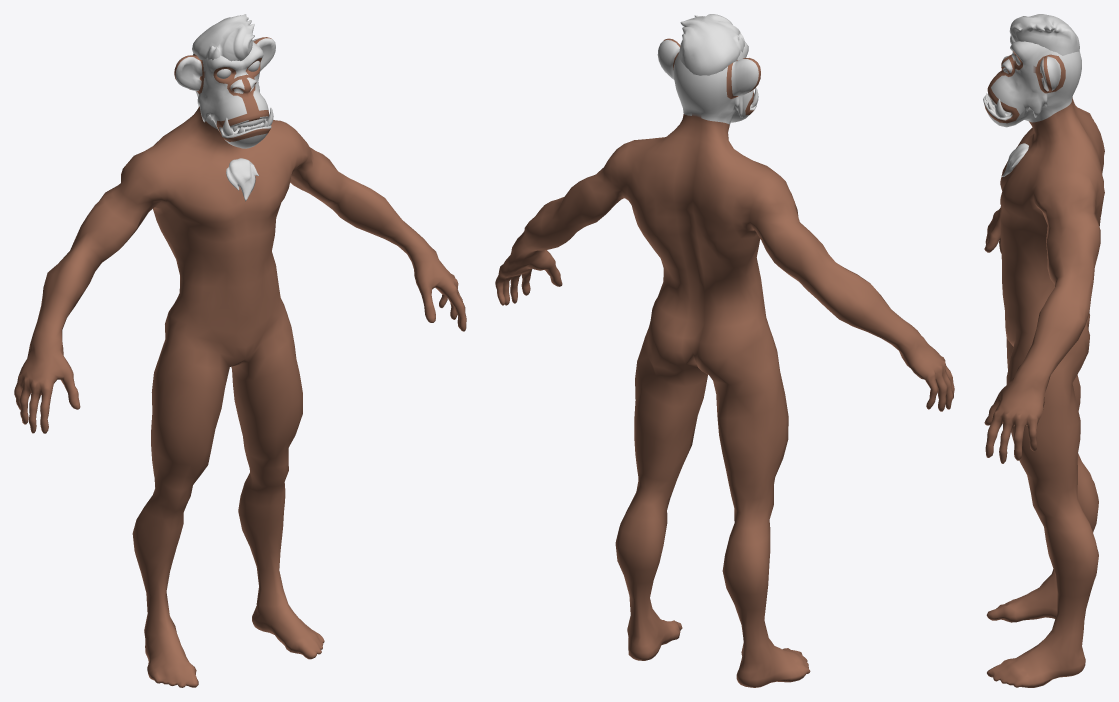
Rendered from MAC_GameModel_LP.fbx.
The picture shows the model from 3 angles, left to right: view 1: azimuth 30°, elevation 25°; view 2: azimuth 150°, elevation 25°; view 3: azimuth 270°, elevation 25°; orthographic projection.
Visible parts, largest first — view 1: MAC_Body_low, Hair_1_low, Fur_1_low; view 2: MAC_Body_low, Hair_1_low; view 3: MAC_Body_low, Hair_1_low, Fur_1_low, Tooth_Bot_low.
Part boxes in pixels (left/top/right/bottom): MAC_Body_low: left=14, top=37, right=466, bottom=687; Hair_1_low: left=192, top=14, right=254, bottom=61; Fur_1_low: left=226, top=158, right=258, bottom=201; MAC_Body_low: left=495, top=38, right=954, bottom=687; Hair_1_low: left=678, top=14, right=744, bottom=75; MAC_Body_low: left=983, top=35, right=1104, bottom=687; Hair_1_low: left=1009, top=14, right=1079, bottom=55; Fur_1_low: left=1002, top=143, right=1028, bottom=176; Tooth_Bot_low: left=985, top=93, right=1010, bottom=117.
Bounding box in the file's own units: 1.38 × 1.91 × 0.3319.
